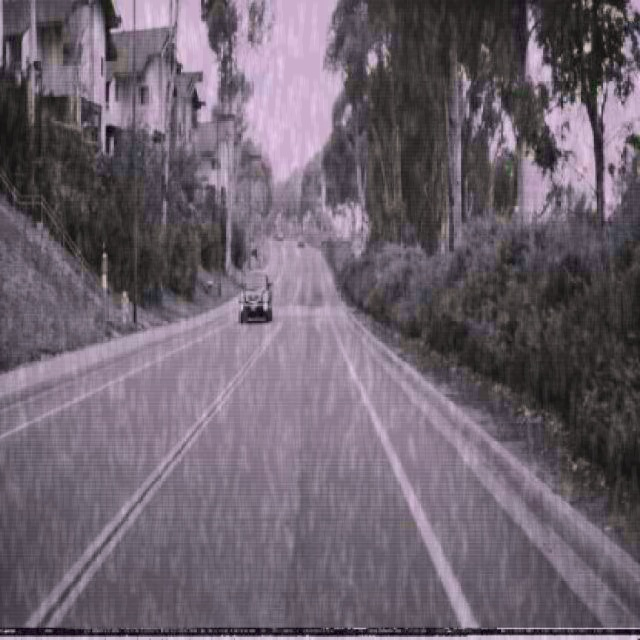dip: (350, 234, 364, 259)
